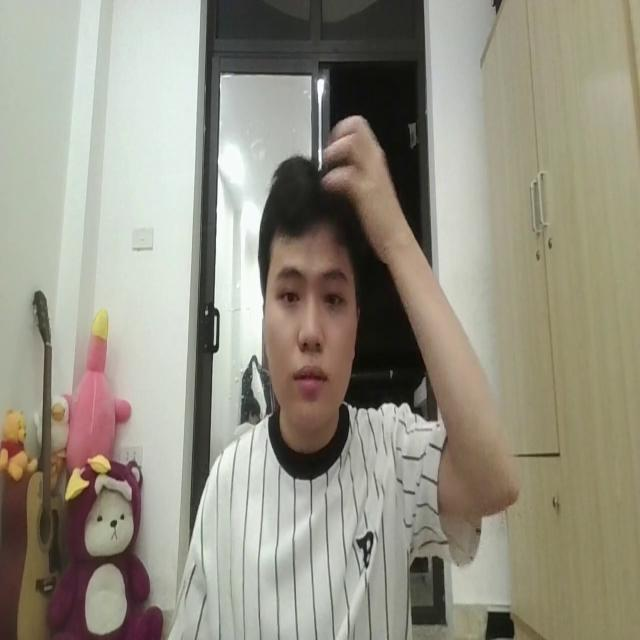student: (158, 113, 516, 640)
